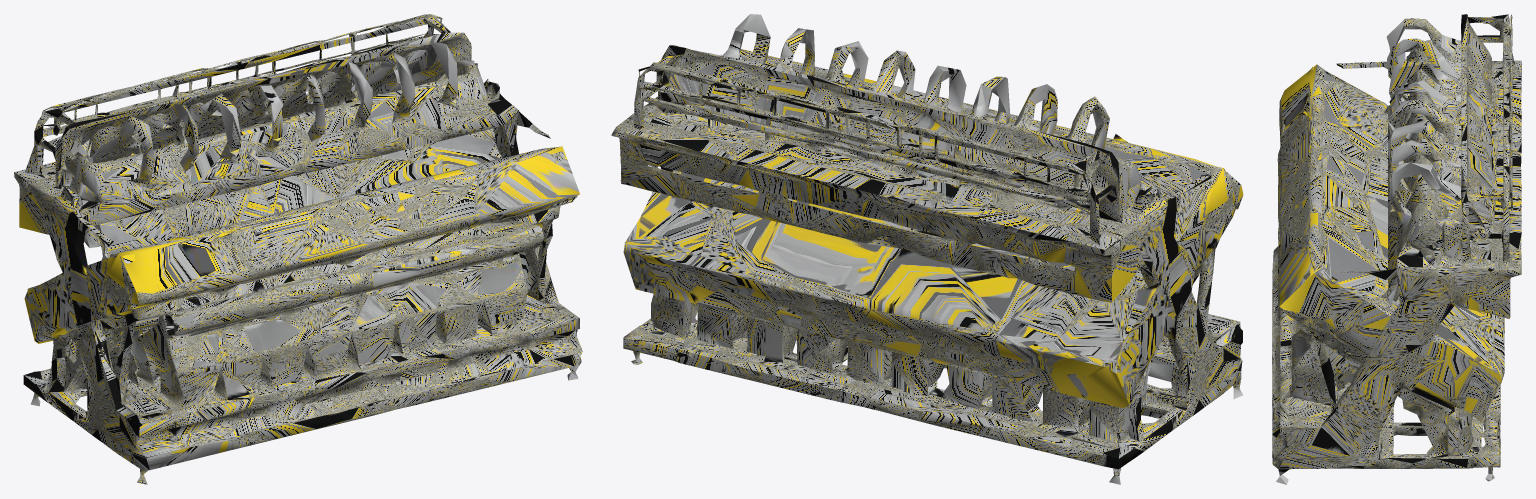
The picture shows the model from 3 angles, left to right: view 1: azimuth 30°, elevation 25°; view 2: azimuth 150°, elevation 25°; view 3: azimuth 270°, elevation 25°; orthographic projection. The views are drawn at different scales.
Bounding box in the file's own units: 1.9 × 1.23 × 0.9537.
Materials: 1 (1 with a texture image).
